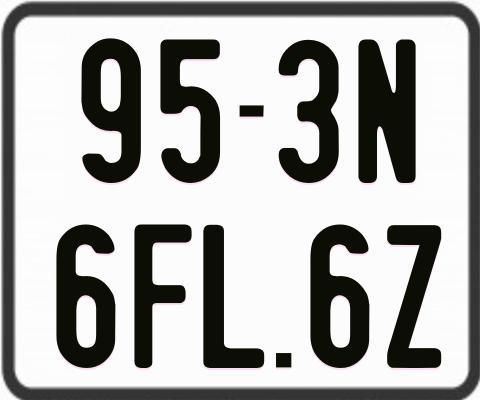3: (279, 38, 344, 183)
5: (157, 38, 220, 184)
6: (307, 223, 370, 372), (54, 225, 114, 373)
9: (81, 36, 145, 183)
F: (133, 222, 192, 368)
L: (200, 224, 267, 371)
N: (357, 39, 416, 188)
Z: (387, 222, 445, 371)
